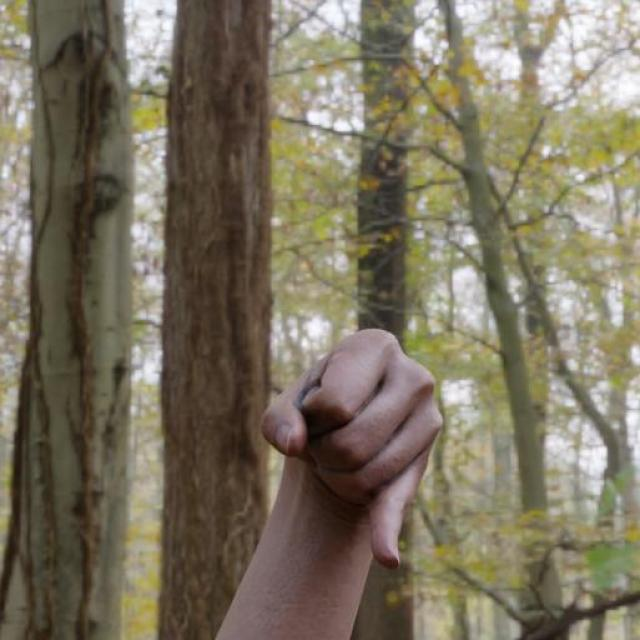J: (256, 320, 451, 570)
